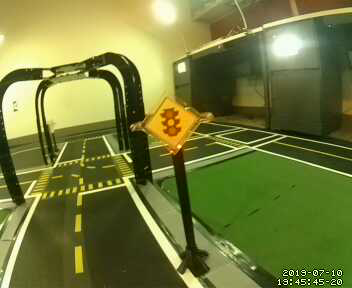Traffic light sign: (148, 96, 199, 149)
